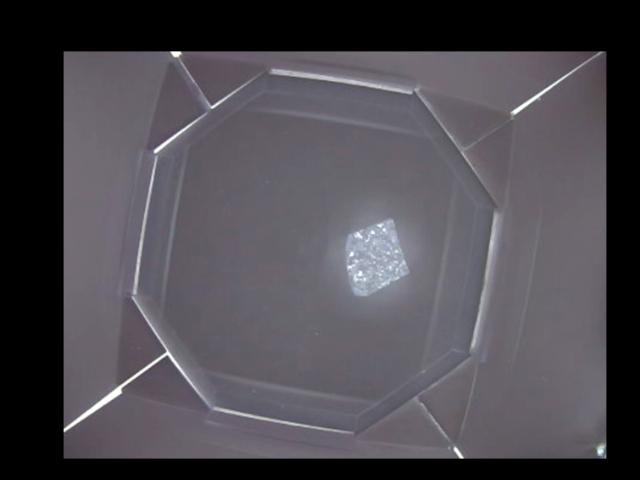China: (344, 219, 407, 297)
